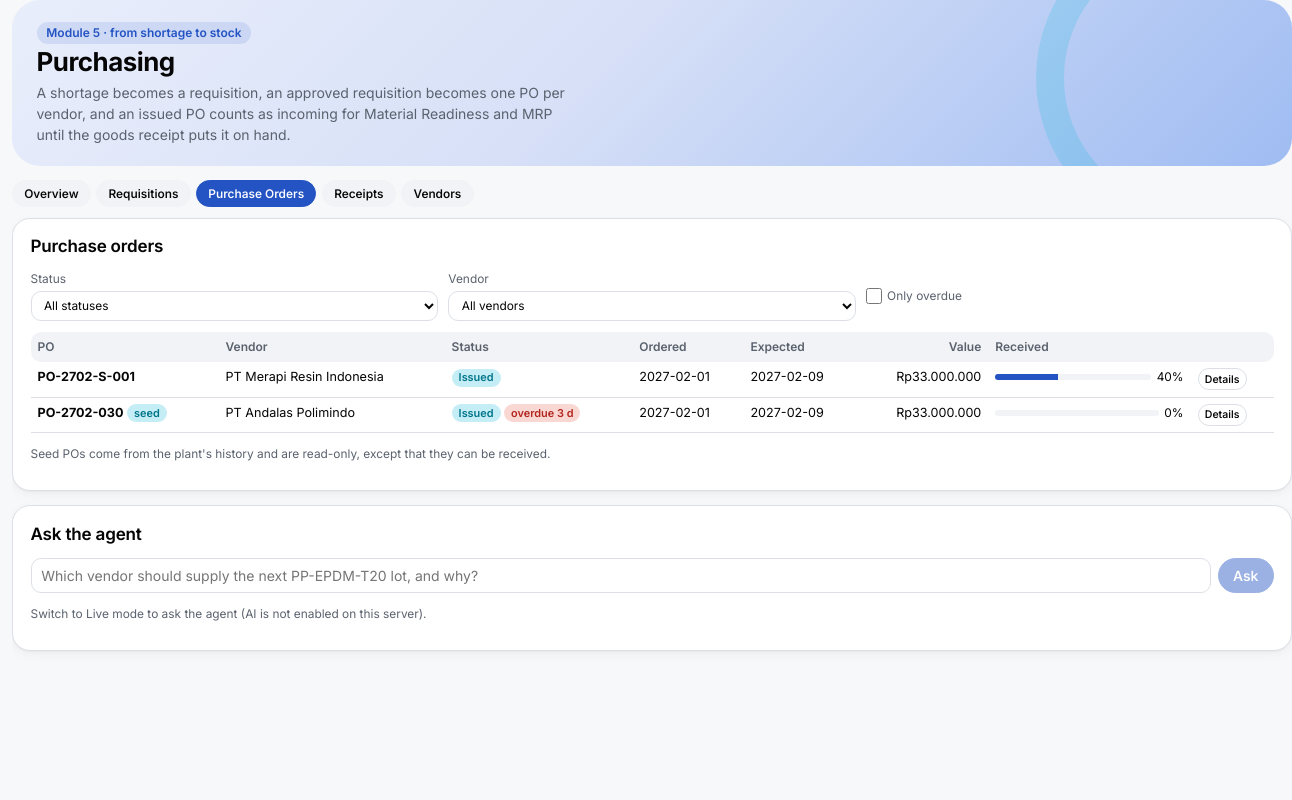
it: orders: list with seed badge, overdue, received bar and filters
Expected: the text "PO-2702-030" is shown, [38,405,124,420]
Expected: the text "seed" is shown, [127,404,167,422]
Select "Issued" in the dropdown named "Filter orders by status" at (234, 306), box [30,291,438,321]
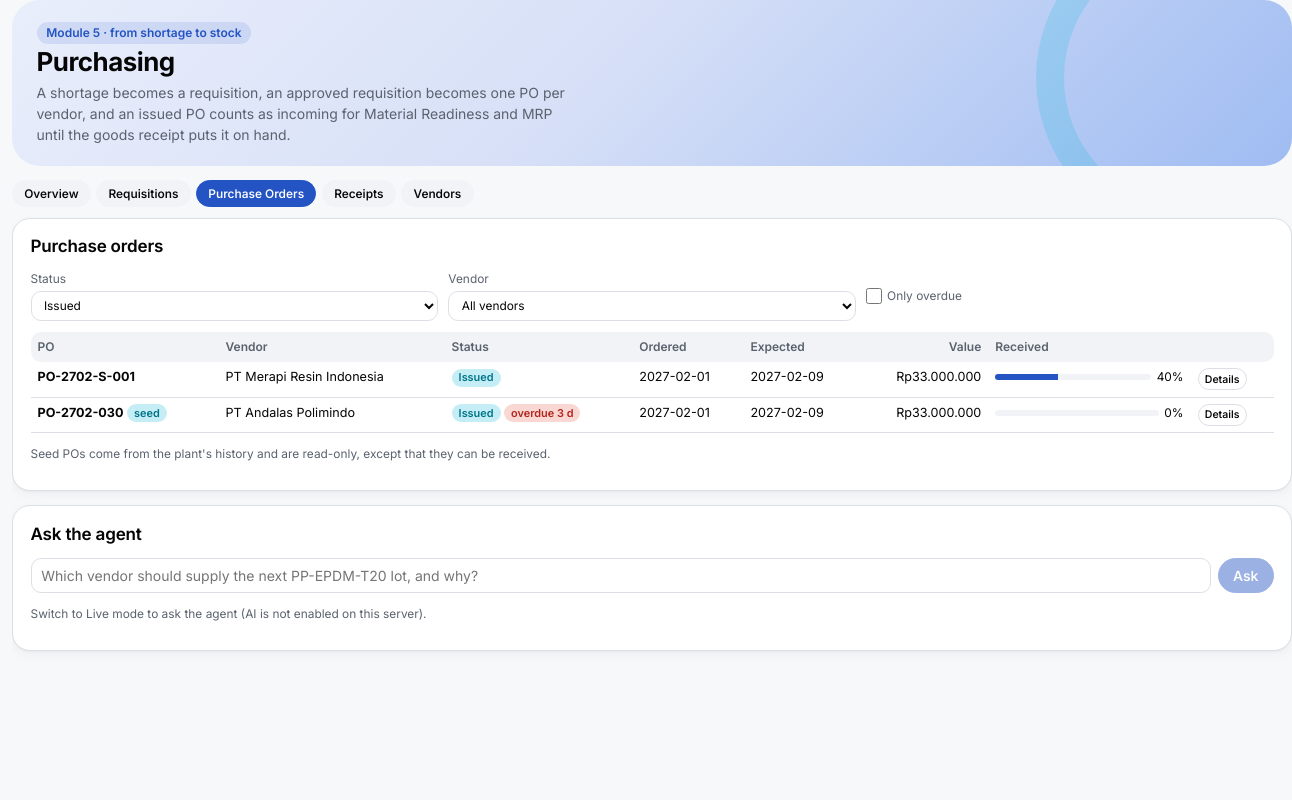
Select "PT Andalas Polimindo" in the dropdown named "Filter orders by vendor" at (652, 306), box [448,291,856,321]
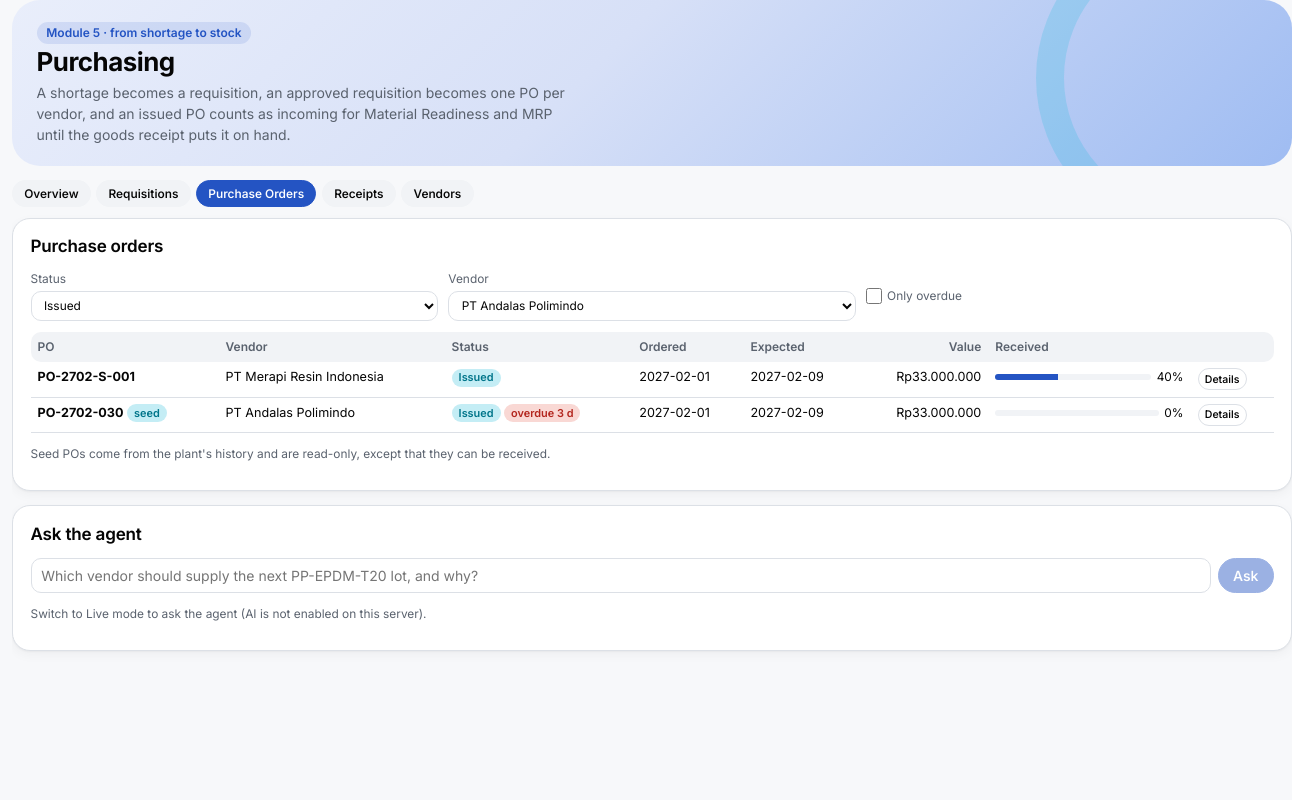
Click the checkbox labelled "Only overdue".
click(874, 296)  # box [866,288,882,304]
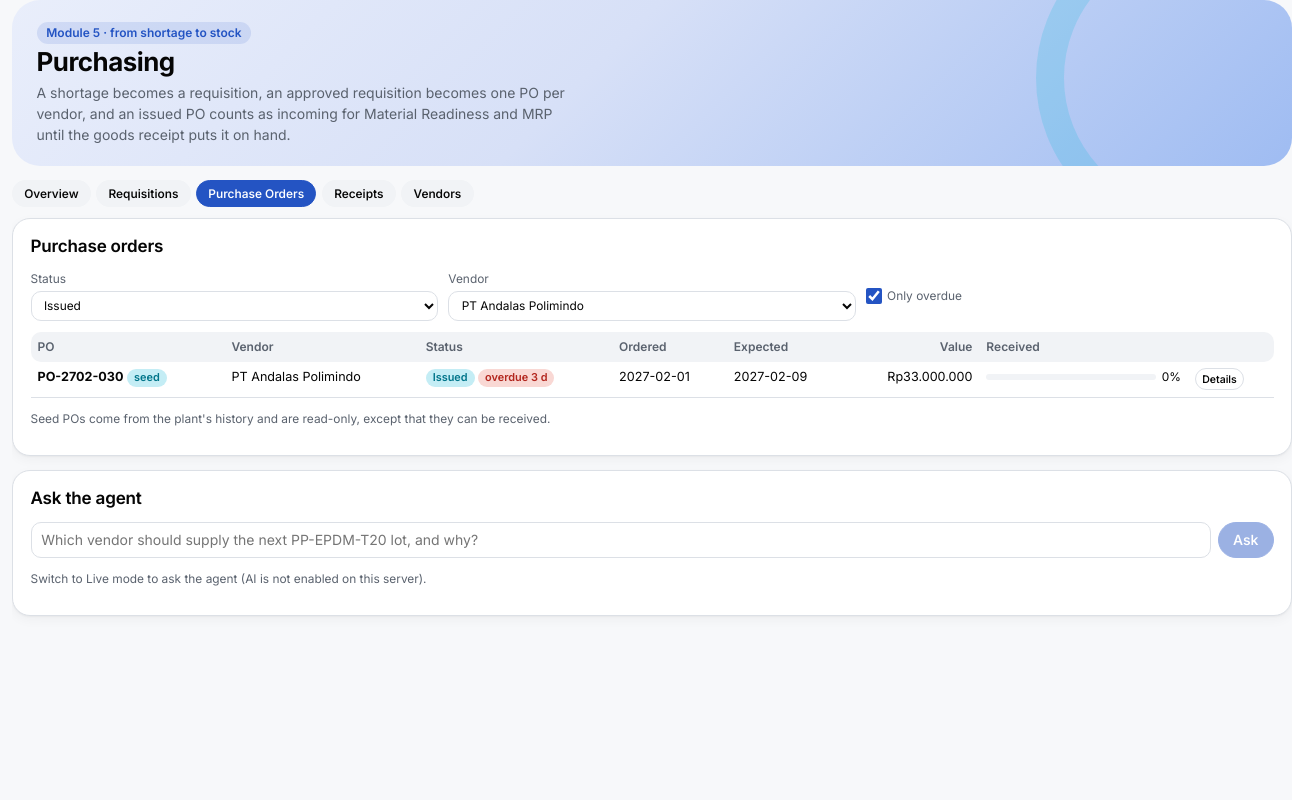
Now the text "PO-2702-S-001" is gone
